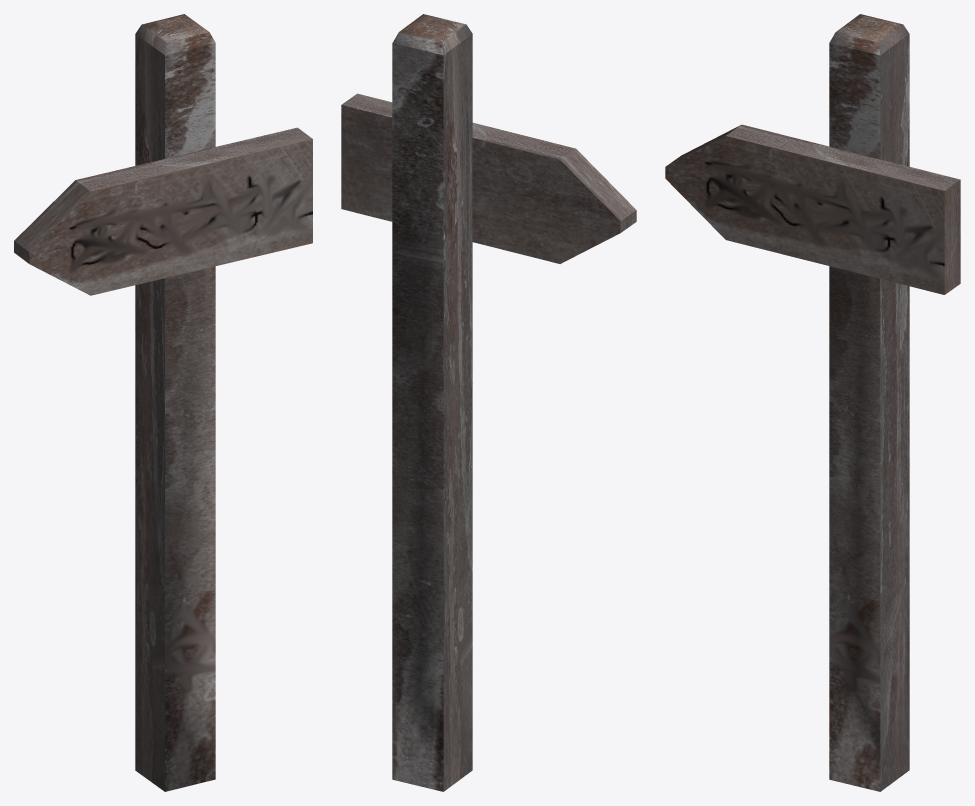
File: Cartel_Izq.obj
The picture shows the model from 3 angles, left to right: view 1: azimuth 30°, elevation 25°; view 2: azimuth 150°, elevation 25°; view 3: azimuth 330°, elevation 25°; orthographic projection.
Visible parts, largest first — view 1: Cube.038; view 2: Cube.038; view 3: Cube.038.
Part boxes in pixels (x1=…): Cube.038: x1=14, y1=14, x2=312, y2=791; Cube.038: x1=341, y1=14, x2=636, y2=791; Cube.038: x1=665, y1=14, x2=960, y2=791.
Size of the model in its own units: 0.9043 by 2.3 by 0.2549.
Materials: 1 (1 with a texture image).
